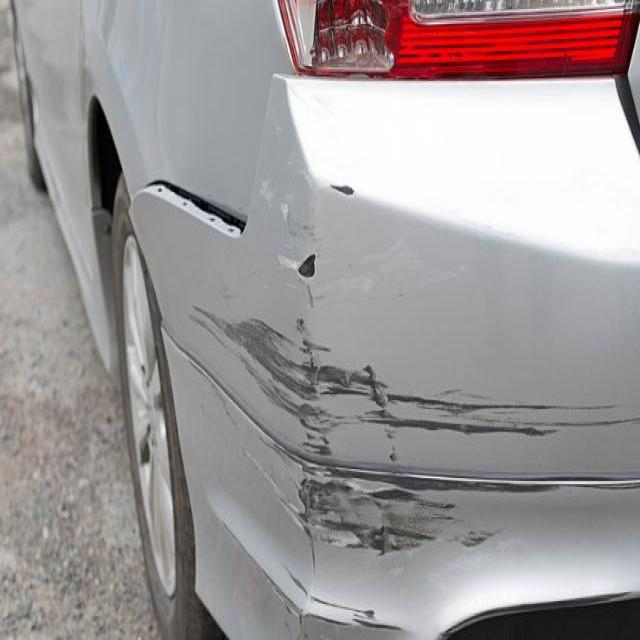Dent: (174, 334, 322, 508), (35, 117, 95, 270), (358, 388, 631, 421), (296, 237, 408, 307), (143, 180, 248, 237), (268, 150, 325, 252), (242, 555, 303, 631), (308, 589, 401, 628), (326, 472, 403, 498), (294, 397, 328, 442), (316, 519, 364, 547), (361, 363, 387, 406), (276, 250, 307, 274), (456, 528, 496, 546), (371, 522, 387, 552), (306, 358, 319, 385), (330, 181, 354, 195), (303, 279, 314, 307), (354, 607, 374, 621), (279, 201, 288, 219), (387, 442, 396, 460), (296, 314, 304, 330)
